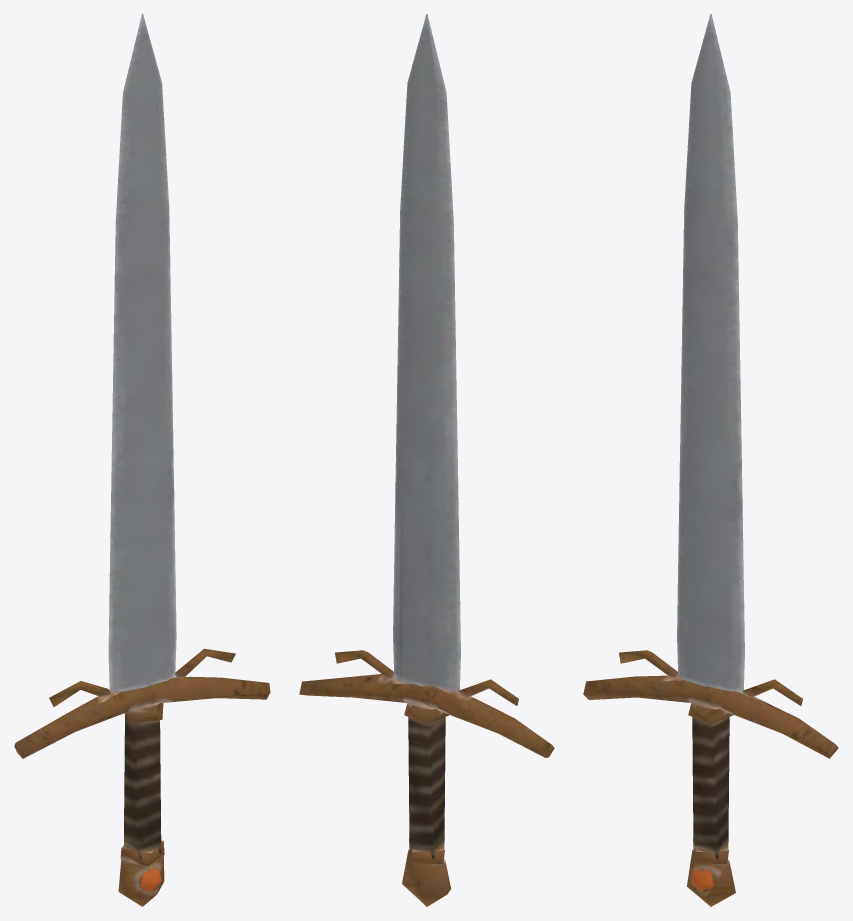
Rendered from eq_sword_3_lod2.glb.
3 renders of one model, left to right at view 1: azimuth 30°, elevation 25°; view 2: azimuth 150°, elevation 25°; view 3: azimuth 330°, elevation 25°, orthographic.
Parts seen in each view (by area): view 1: eq_sword_3_lod2; view 2: eq_sword_3_lod2; view 3: eq_sword_3_lod2.
Boxes of the visible parts, left/top/right/bottom form: eq_sword_3_lod2: left=14, top=14, right=270, bottom=906; eq_sword_3_lod2: left=299, top=14, right=554, bottom=906; eq_sword_3_lod2: left=583, top=14, right=838, bottom=906.
Bounding box in the file's own units: 0.4005 × 1.36 × 0.0624.
1 material, 1 textured.
